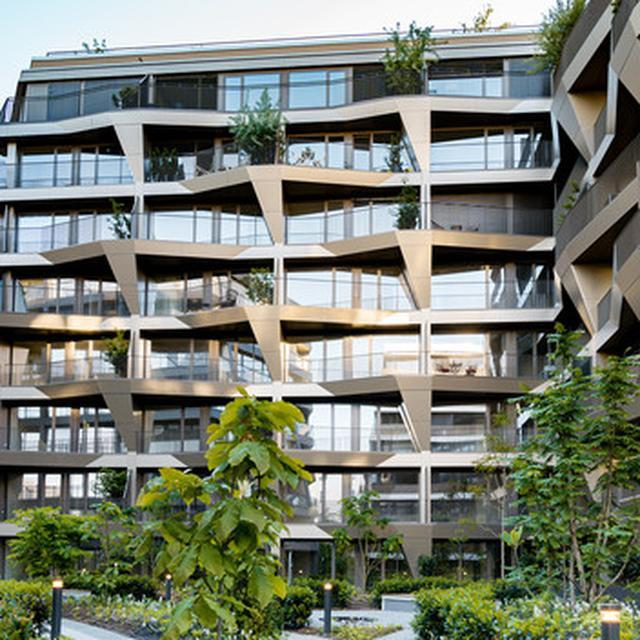building: (6, 28, 557, 579)
